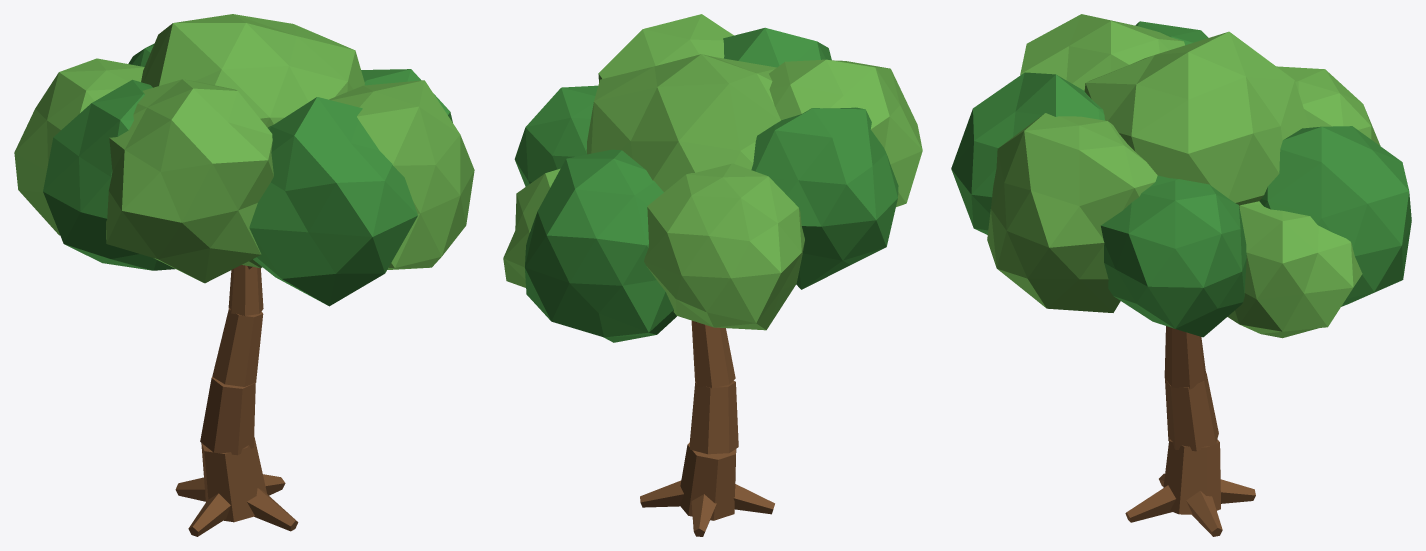
Rendered from nat_oak_c_v01.glb.
3 views of the same model, side by side, from view 1: azimuth 30°, elevation 25°; view 2: azimuth 150°, elevation 25°; view 3: azimuth 270°, elevation 25° (orthographic). The views are drawn at different scales.
Visible parts, largest first — view 1: tree; view 2: tree; view 3: tree.
Boxes of the visible parts, x1,y1,x2,y2 form: tree: (14, 14, 474, 536); tree: (503, 14, 922, 536); tree: (951, 14, 1411, 536).
Size of the model in its own units: 6.74 by 8.08 by 7.3.
